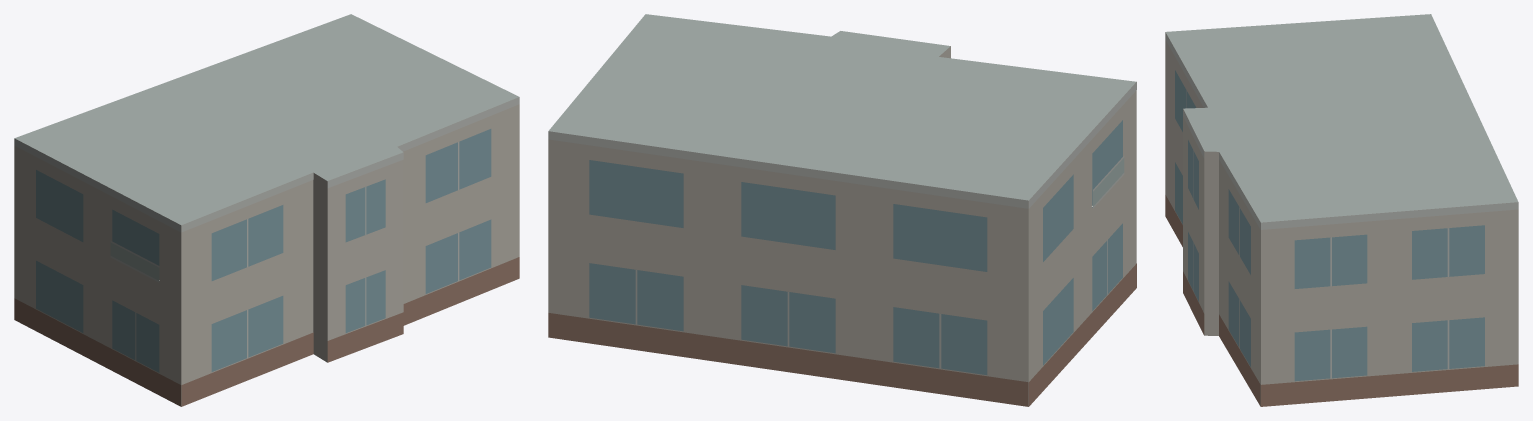
The model's file is survey-upis-32960611.glb.
3 views of the same model, side by side, from view 1: azimuth 30°, elevation 25°; view 2: azimuth 150°, elevation 25°; view 3: azimuth 270°, elevation 25° (orthographic). The views are drawn at different scales.
Visible parts, largest first — view 1: survey-upis-32960611.tmp; view 2: survey-upis-32960611.tmp; view 3: survey-upis-32960611.tmp.
Part boxes in pixels (x1,y1,x2,y2): survey-upis-32960611.tmp: (14, 14, 519, 406); survey-upis-32960611.tmp: (548, 14, 1136, 406); survey-upis-32960611.tmp: (1165, 14, 1518, 406).
Bounding box in the file's own units: 14.82 × 6.1 × 10.61.
